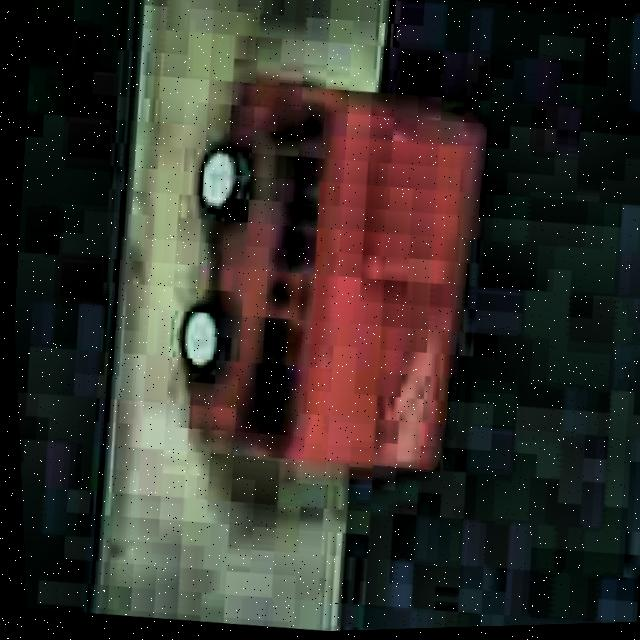bus: (149, 64, 507, 496)
